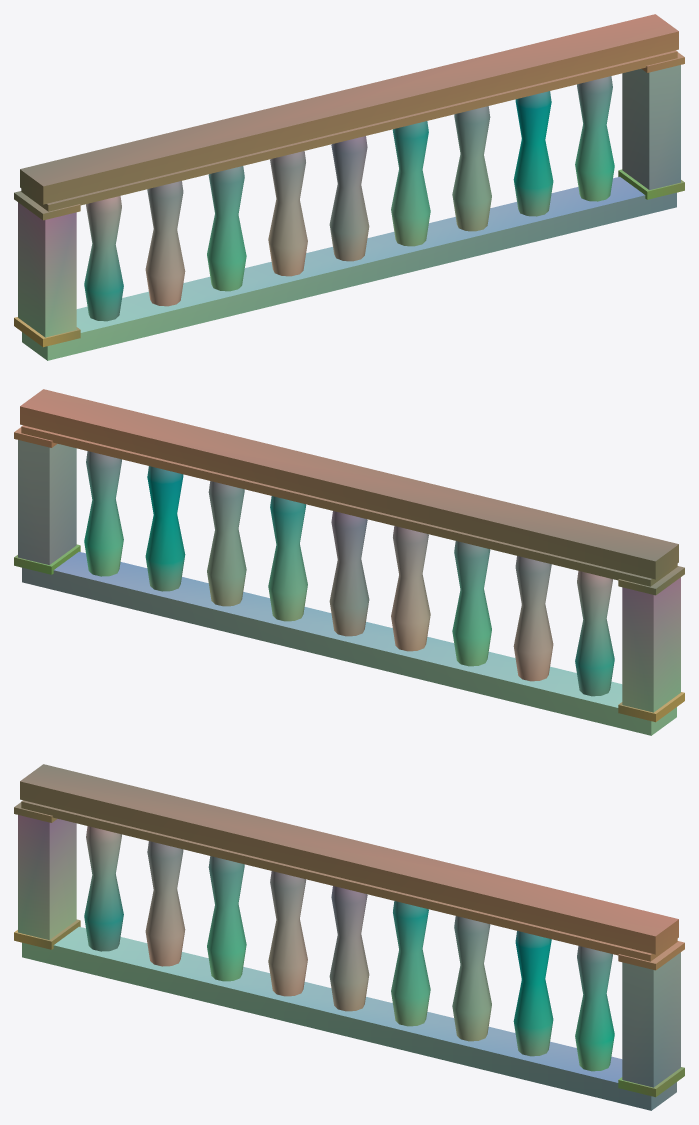
The model's file is palace_balustrade_4m.glb.
The picture shows the model from 3 angles, top to bottom: view 1: azimuth 30°, elevation 25°; view 2: azimuth 150°, elevation 25°; view 3: azimuth 330°, elevation 25°; orthographic projection.
Visible parts, largest first — view 1: palace_bal_rail, palace_bal_base, palace_baluster.004, palace_baluster.005, palace_baluster.007, palace_baluster.001, palace_baluster, palace_baluster.008, palace_baluster.006, palace_baluster.002, palace_baluster.003; view 2: palace_bal_rail, palace_bal_base, palace_baluster.004, palace_baluster.005, palace_baluster.007, palace_baluster.001, palace_baluster, palace_baluster.008, palace_baluster.006, palace_baluster.002, palace_baluster.003; view 3: palace_bal_rail, palace_bal_base, palace_baluster.003, palace_baluster.004, palace_baluster.001, palace_baluster.007, palace_baluster, palace_baluster.008, palace_baluster.002, palace_baluster.006, palace_baluster.005.
Boxes of the visible parts, x1=… form: palace_bal_rail: x1=14, y1=14, x2=684, y2=347; palace_bal_base: x1=18, y1=65, x2=680, y2=360; palace_baluster.004: x1=329, y1=136, x2=369, y2=261; palace_baluster.005: x1=391, y1=121, x2=430, y2=246; palace_baluster.007: x1=513, y1=91, x2=553, y2=216; palace_baluster.001: x1=145, y1=181, x2=185, y2=306; palace_baluster: x1=84, y1=196, x2=123, y2=321; palace_baluster.008: x1=575, y1=76, x2=614, y2=201; palace_baluster.006: x1=452, y1=106, x2=491, y2=231; palace_baluster.002: x1=207, y1=166, x2=246, y2=291; palace_baluster.003: x1=268, y1=151, x2=307, y2=276; palace_bal_rail: x1=14, y1=389, x2=684, y2=722; palace_bal_base: x1=18, y1=440, x2=680, y2=735; palace_baluster.004: x1=329, y1=511, x2=369, y2=636; palace_baluster.005: x1=268, y1=496, x2=307, y2=621; palace_baluster.007: x1=145, y1=466, x2=185, y2=591; palace_baluster.001: x1=513, y1=556, x2=553, y2=681; palace_baluster: x1=575, y1=571, x2=614, y2=696; palace_baluster.008: x1=84, y1=451, x2=123, y2=576; palace_baluster.006: x1=207, y1=481, x2=246, y2=606; palace_baluster.002: x1=452, y1=541, x2=491, y2=666; palace_baluster.003: x1=391, y1=526, x2=430, y2=651; palace_bal_rail: x1=14, y1=764, x2=684, y2=1097; palace_bal_base: x1=18, y1=815, x2=680, y2=1110; palace_baluster.003: x1=268, y1=871, x2=307, y2=996; palace_baluster.004: x1=329, y1=886, x2=369, y2=1011; palace_baluster.001: x1=145, y1=841, x2=185, y2=966; palace_baluster.007: x1=513, y1=931, x2=553, y2=1056; palace_baluster: x1=84, y1=826, x2=123, y2=951; palace_baluster.008: x1=575, y1=946, x2=614, y2=1071; palace_baluster.002: x1=207, y1=856, x2=246, y2=981; palace_baluster.006: x1=452, y1=916, x2=491, y2=1041; palace_baluster.005: x1=391, y1=901, x2=430, y2=1026.
Size of the model in its own units: 4.08 by 1.06 by 0.32.
